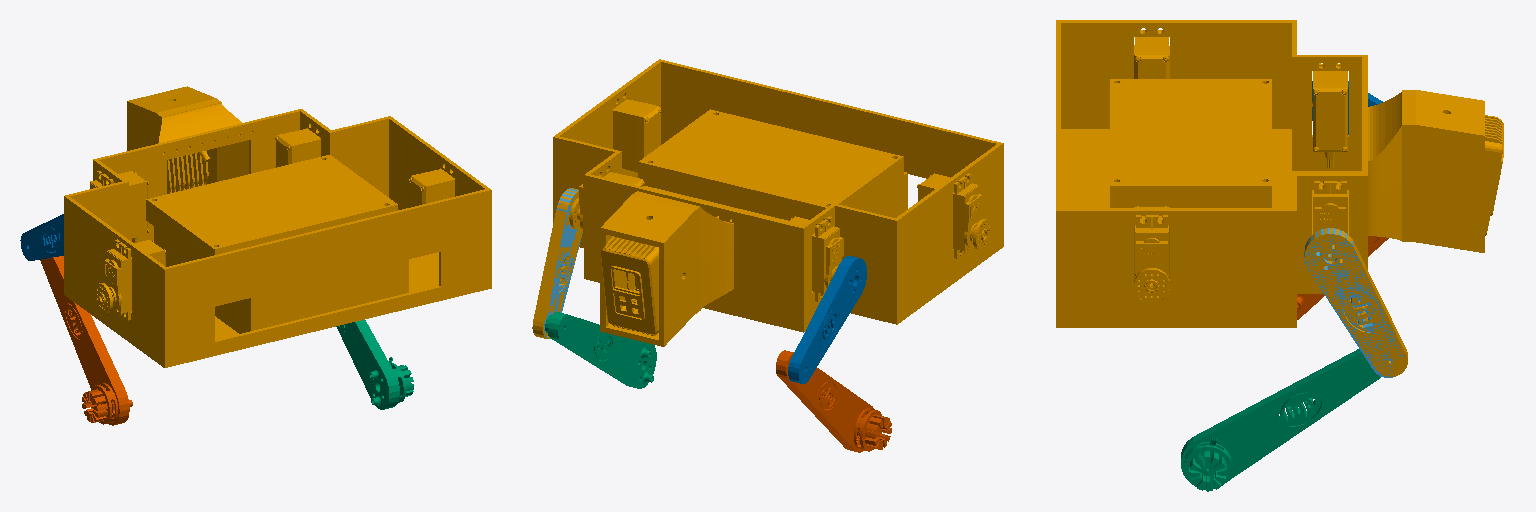
robot.urdf — chy:
<?xml version='1.0' encoding='utf-8'?>
<robot name="chy">
  
  <!--
   chy —— 五连杆轮腿车的等效开链模型（2R 串联臂 + 轮）。
   来源：all1_isaacgym.urdf（最新 CAD）的质量/惯量 + car_closed.xml 推导的运动学。
   后腿质量已按 car_closed.xml 比例缩放后合并进 Upper/Lower。
   base 质量在 CAD 值上额外附加 0.600 kg（真机负载），惯量同比例缩放，质心不动。
   自动生成（_car_tools/mk_car_open_v2.py），请勿手工编辑。
  --><link name="base">
    <inertial><origin xyz="-0.076488696608 -0.045503244943 0.029811344562" rpy="0 0 0" /><mass value="1.8267529733" />
      <inertia ixx="0.0033122358854" ixy="1.0845890652e-05" ixz="2.1803288417e-06" iyy="0.0050979759235" iyz="3.4985722811e-05" izz="0.0075202126611" /></inertial>
    <visual><origin xyz="0 0 0" rpy="0 0 0" /><geometry><mesh filename="../meshes/base.STL" /></geometry></visual>
    <collision><origin xyz="0 0 0" rpy="0 0 0" /><geometry><mesh filename="../meshes/base.STL" /></geometry></collision>
  </link>
  <link name="RightUpper_link">
    <inertial><origin xyz="0.017012641892 -0.03255748553 -0.025066258712" rpy="0 0 0" /><mass value="0.055392784167" /><inertia ixx="0.0002852939652" ixy="8.0360765172e-05" ixz="-4.151644631e-06" iyy="5.6053747949e-05" iyz="1.6643913363e-05" izz="0.00028351493903" /></inertial>
    <visual><origin xyz="0 0 0" rpy="0 0 0" /><geometry><mesh filename="../meshes/RightFrontUpper.STL" /></geometry></visual>
    <collision><origin xyz="0.001567380066 0.01674691876 -0.03355280483" rpy="-2.678648271 0 0" /><geometry><cylinder radius="0.005" length="0.051" /></geometry></collision>
  </link>
  <link name="RightLower_link">
    <inertial><origin xyz="0.010700419962 -0.086362186134 -0.038648866785" rpy="0 0 0" /><mass value="0.093331310153" /><inertia ixx="0.00030244482804" ixy="0.00010220832071" ixz="-1.50125547e-05" iyy="0.00014778152467" iyz="-1.3426056961e-05" izz="0.00031630465122" /></inertial>
    <visual><origin xyz="0 0 0" rpy="0 0 0" /><geometry><mesh filename="../meshes/RightFrontLower.STL" /></geometry></visual>
    <collision><origin xyz="-0.007290200947 -0.05206742216 -0.03457214991" rpy="2.156942261 0 0" /><geometry><cylinder radius="0.005" length="0.101" /></geometry></collision>
  </link>
  <link name="RightWheel_link">
    <inertial><origin xyz="0.00094007132007 4.7431185536e-07 -2.8642121287e-06" rpy="0 0 0" /><mass value="0.026992854554" />
      <inertia ixx="2.0197103843e-05" ixy="-3.5882620171e-10" ixz="4.8965076845e-10" iyy="1.1953631852e-05" iyz="-5.2323689315e-09" izz="1.1955963186e-05" /></inertial>
    <visual><origin xyz="0 0 0" rpy="0 0 0" /><geometry><mesh filename="../meshes/RightWheel_link.STL" /></geometry></visual>
    <collision><origin xyz="0 0 0" rpy="0 1.5707963268 0" /><geometry><cylinder radius="0.0325" length="0.018" /></geometry></collision>
  </link>
  <joint name="RightHip_joint" type="revolute">
    <origin xyz="0.0229 0.022468 0.033" rpy="0 0 0" />
    <parent link="base" /><child link="RightUpper_link" />
    <axis xyz="1 0 0" />
    <limit lower="-1.2" upper="1.2" effort="1.96" velocity="20" />
  </joint>
  <joint name="RightKnee_joint" type="revolute">
    <origin xyz="-1.009609063e-15 0.03349383753 -0.06710560966" rpy="0 0 0" />
    <parent link="RightUpper_link" /><child link="RightLower_link" />
    <axis xyz="1 0 0" />
    <limit lower="-2.0" upper="2.0" effort="1.96" velocity="20" />
  </joint>
  <joint name="RightWheel_joint" type="revolute">
    <origin xyz="0.027 -0.1041348443 -0.06914429982" rpy="0 0 0" />
    <parent link="RightLower_link" /><child link="RightWheel_link" />
    <axis xyz="-1 0 0" />
    <limit lower="-1000" upper="1000" effort="0.5" velocity="140" />
  </joint>
  <link name="LeftUpper_link">
    <inertial><origin xyz="-0.017744776299 -0.023528787686 -0.019396257196" rpy="0 0 0" /><mass value="0.052886101771" /><inertia ixx="0.00029456800541" ixy="-8.1064474891e-05" ixz="-6.387092082e-06" iyy="4.6138402275e-05" iyz="-1.491493523e-05" izz="0.00030142569122" /></inertial>
    <visual><origin xyz="0 0 0" rpy="0 0 0" /><geometry><mesh filename="../meshes/LeftFrontUpper.STL" /></geometry></visual>
    <collision><origin xyz="-0.001567380066 0.03241167216 -0.01886089892" rpy="-2.097813283 0 0" /><geometry><cylinder radius="0.005" length="0.051" /></geometry></collision>
  </link>
  <link name="LeftLower_link">
    <inertial><origin xyz="-0.011625494593 -0.082716296788 -0.05280913405" rpy="0 0 0" /><mass value="0.088767279423" /><inertia ixx="0.00030791987332" ixy="-0.000107340735" ixz="-9.3908480262e-06" iyy="0.00014324157254" iyz="-4.8926999644e-05" izz="0.00032304195494" /></inertial>
    <visual><origin xyz="0 0 0" rpy="0 0 0" /><geometry><mesh filename="../meshes/LeftFrontLower.STL" /></geometry></visual>
    <collision><origin xyz="0.007290200947 -0.04670222825 -0.04153494765" rpy="2.297700032 0 0" /><geometry><cylinder radius="0.005" length="0.101" /></geometry></collision>
  </link>
  <link name="LeftWheel_link">
    <inertial><origin xyz="-0.00094040158451 1.4671797677e-07 -2.3062122562e-07" rpy="0 0 0" /><mass value="0.02699380786" />
      <inertia ixx="2.019165875e-05" ixy="4.8449696536e-11" ixz="-4.6518601702e-11" iyy="1.1953362592e-05" iyz="5.0776577288e-10" izz="1.1950966155e-05" /></inertial>
    <visual><origin xyz="0 0 0" rpy="0 0 0" /><geometry><mesh filename="../meshes/LeftWheel_link.STL" /></geometry></visual>
    <collision><origin xyz="0 0 0" rpy="0 1.5707963268 0" /><geometry><cylinder radius="0.0325" length="0.018" /></geometry></collision>
  </link>
  <joint name="LeftHip_joint" type="revolute">
    <origin xyz="-0.1844 0.022468 0.033" rpy="0 0 0" />
    <parent link="base" /><child link="LeftUpper_link" />
    <axis xyz="-1 0 0" />
    <limit lower="-1.2" upper="1.2" effort="1.96" velocity="20" />
  </joint>
  <joint name="LeftKnee_joint" type="revolute">
    <origin xyz="0 0.06482334431 -0.03772179784" rpy="0 0 0" />
    <parent link="LeftUpper_link" /><child link="LeftLower_link" />
    <axis xyz="1 0 0" />
    <limit lower="-2.0" upper="2.0" effort="1.96" velocity="20" />
  </joint>
  <joint name="LeftWheel_joint" type="revolute">
    <origin xyz="-0.027 -0.09340445651 -0.0830698953" rpy="0 0 0" />
    <parent link="LeftLower_link" /><child link="LeftWheel_link" />
    <axis xyz="1 0 0" />
    <limit lower="-1000" upper="1000" effort="0.5" velocity="140" />
  </joint>
</robot>

--- Render facts (derived) ---
The picture shows the robot from 3 angles, left to right: view 1: azimuth 30°, elevation 25°; view 2: azimuth 150°, elevation 25°; view 3: azimuth 270°, elevation 25°; orthographic projection.
Robot: chy — 7 links, 6 joints (6 revolute); root link base; default pose: every joint at zero.
Visible links, largest first — view 1: base, LeftLower_link, RightLower_link, LeftUpper_link; view 2: base, LeftLower_link, RightLower_link, LeftUpper_link, RightUpper_link; view 3: base, RightLower_link, RightUpper_link, LeftLower_link.
Boxes of the visible links, bbox=[...] form: base: bbox=[64, 86, 491, 367]; LeftLower_link: bbox=[40, 256, 132, 425]; RightLower_link: bbox=[336, 320, 413, 409]; LeftUpper_link: bbox=[20, 214, 63, 260]; base: bbox=[532, 59, 1003, 346]; LeftLower_link: bbox=[776, 350, 891, 452]; RightLower_link: bbox=[545, 312, 656, 388]; LeftUpper_link: bbox=[788, 256, 866, 383]; RightUpper_link: bbox=[544, 188, 582, 338]; base: bbox=[1056, 20, 1503, 376]; RightLower_link: bbox=[1181, 349, 1380, 491]; RightUpper_link: bbox=[1304, 228, 1403, 377]; LeftLower_link: bbox=[1297, 236, 1388, 319].
Size in the robot's own frame: 0.2964 by 0.2587 by 0.2009 metres.
5 mesh visuals loaded from 7 distinct referenced files (5 binary STL); not drawn: 2 (reference not matched to a file when rendering).
